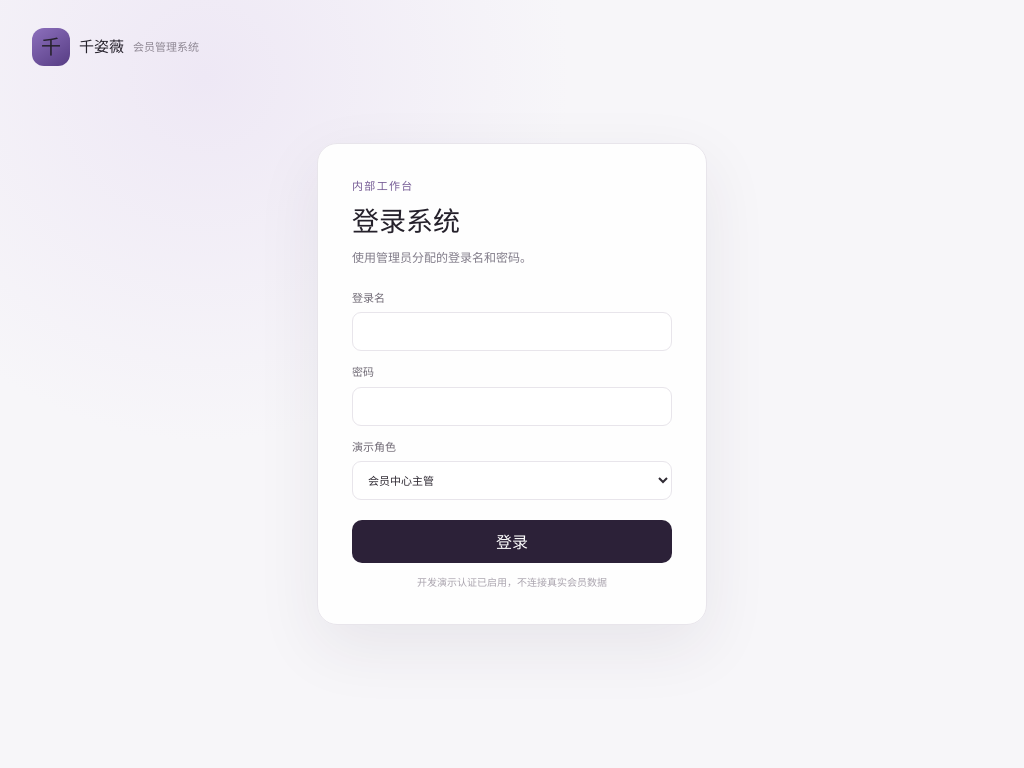
Test: Dashboard › hides the operating dashboard from management account 004
Type "004" into the field labelled "登录名".
click(512, 332); type("004")  # box [352, 312, 672, 351]
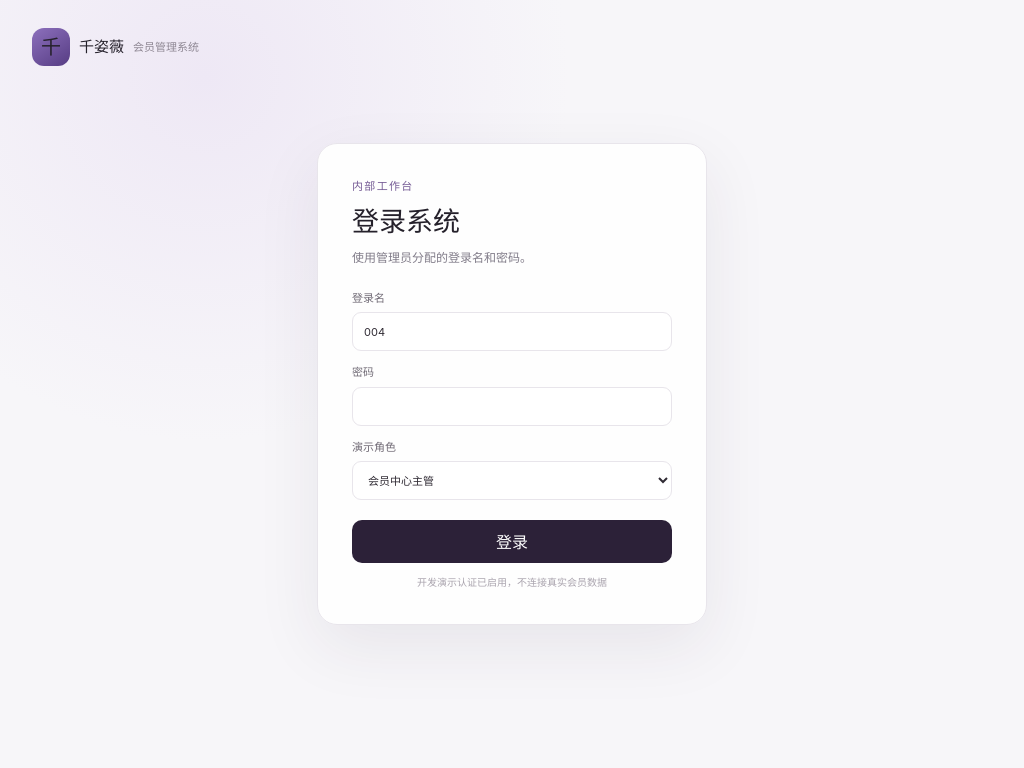
Type "Demo123!" into the password field labelled "密码".
click(512, 406); type("Demo123!")  # box [352, 387, 672, 426]
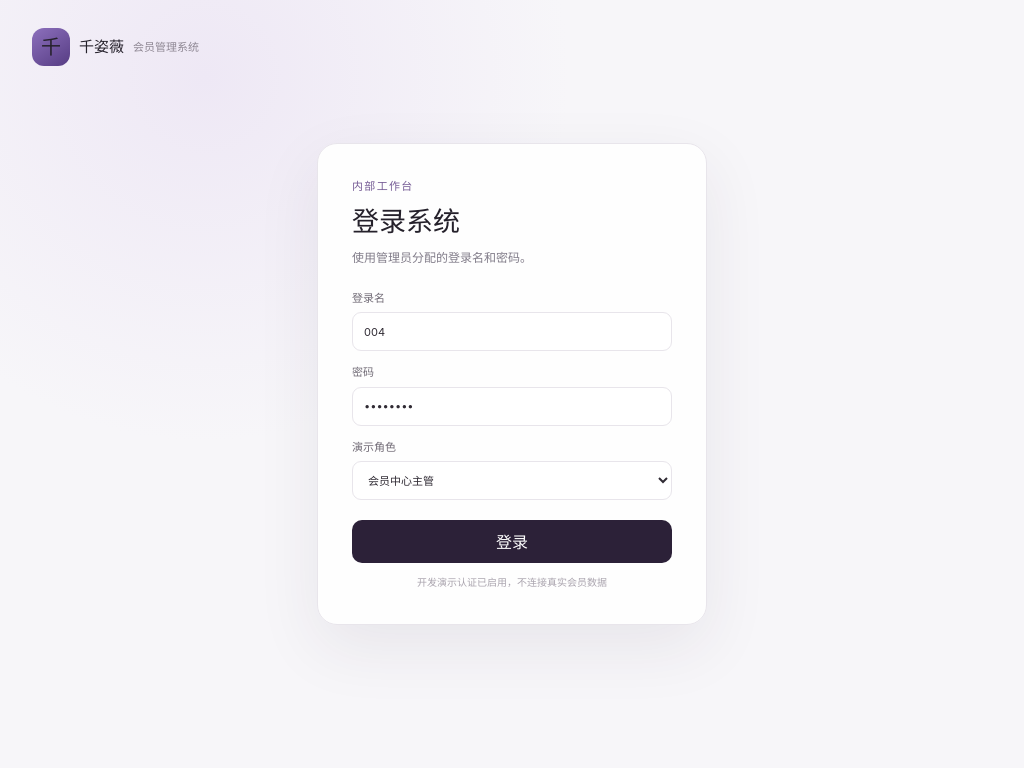
Select "管理层" in the dropdown labelled "演示角色" at (512,481), box [352, 461, 672, 500]
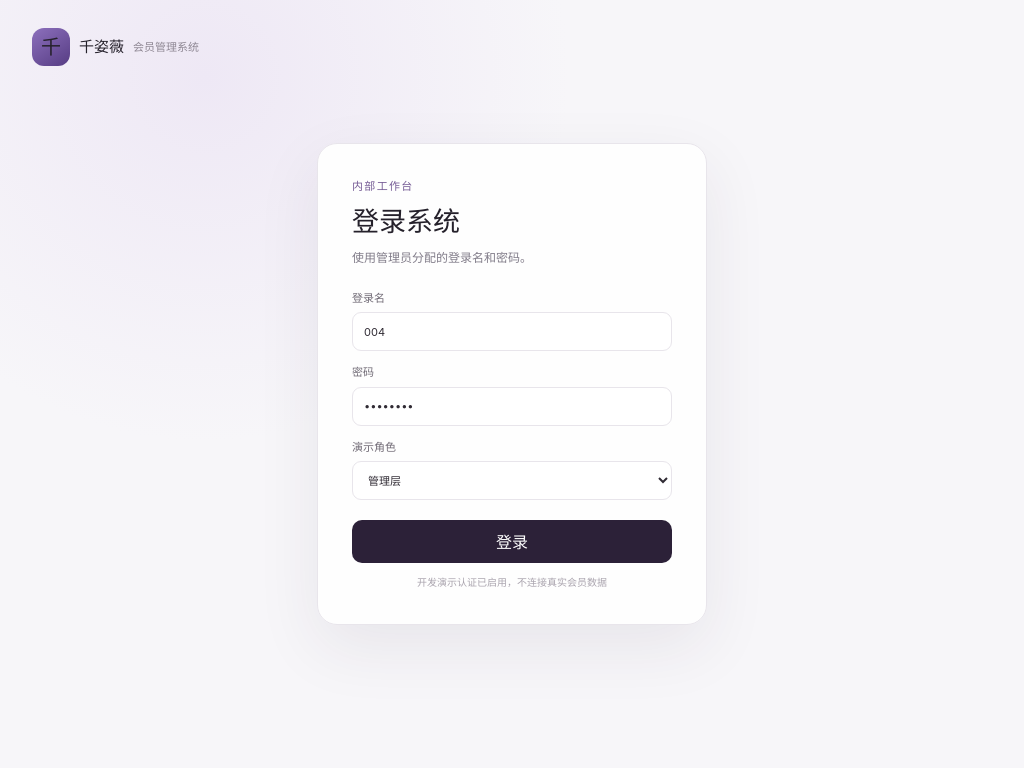
Click the button "登录".
click(512, 542)  # box [352, 520, 672, 563]
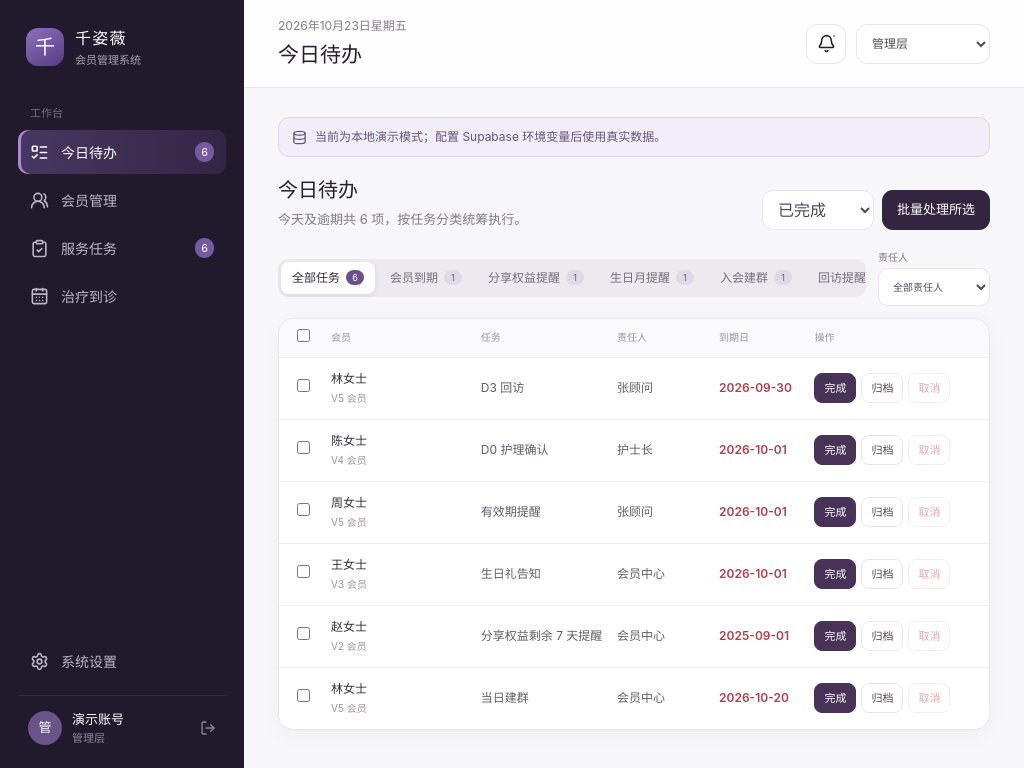
Now the heading "今日待办" below "当前为本地演示模式；配置 Supabase 环境变量后使用真实数据。" is shown, box [278, 178, 358, 202]
